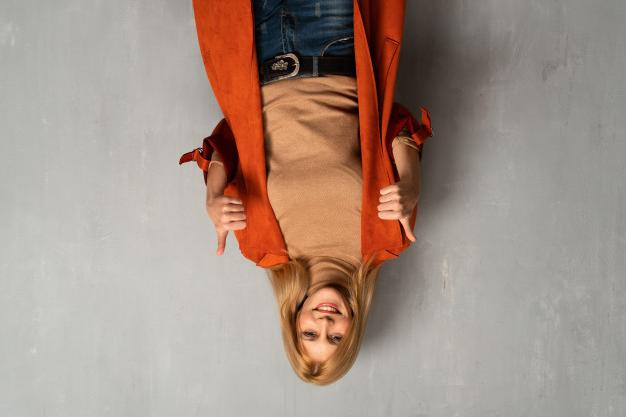thumbsdown: (377, 184, 417, 242), (214, 196, 247, 257)
